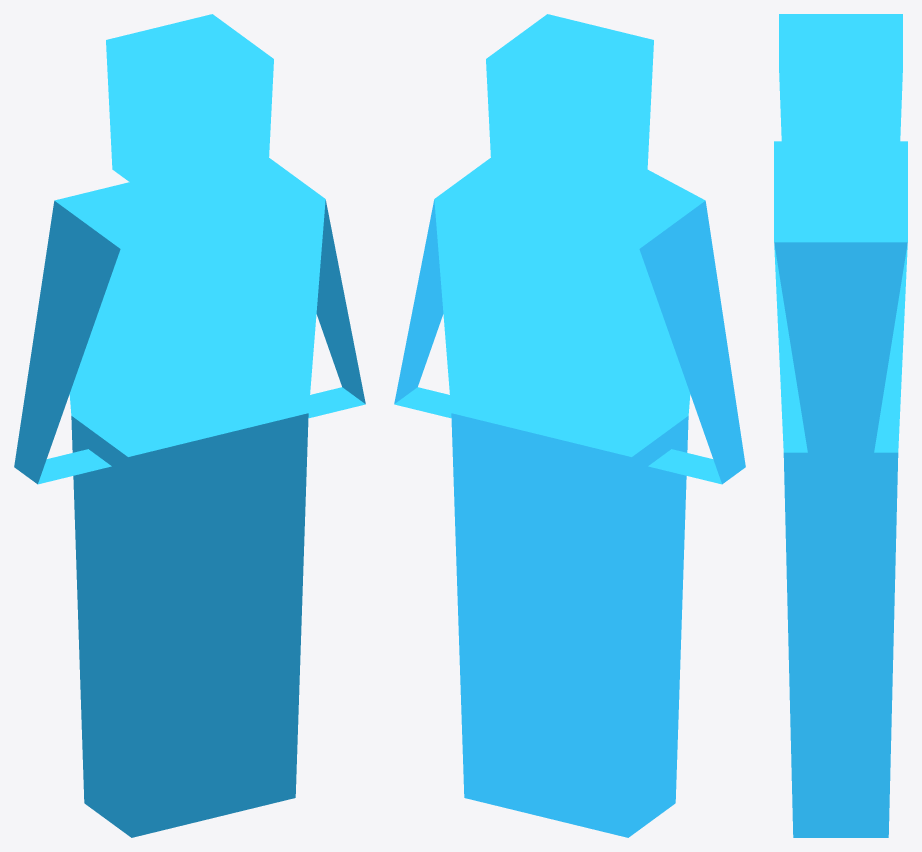
Rendered from person_dummy.dae.
3 views of the same model, side by side, from view 1: azimuth 30°, elevation 25°; view 2: azimuth 150°, elevation 25°; view 3: azimuth 270°, elevation 25° (orthographic).
Parts seen in each view (by area): view 1: HumanDummy; view 2: HumanDummy; view 3: HumanDummy.
Boxes of the visible parts, <box> form: HumanDummy: <box>14,14,365,837</box>; HumanDummy: <box>394,14,745,837</box>; HumanDummy: <box>774,14,907,837</box>.
Bounding box in the file's own units: 0.8 × 0.28 × 1.75.
